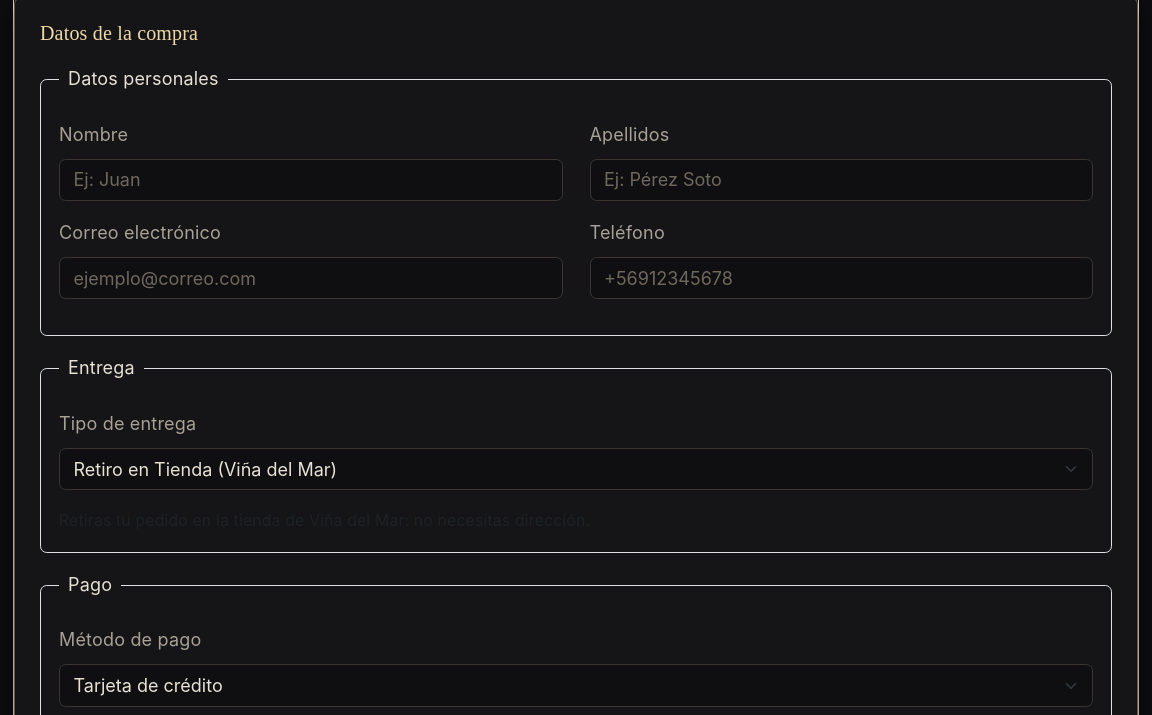
FormularioCheckout › muestra errores y no confirma si faltan datos del despacho
Select "Despacho Starken" in the dropdown labelled "Tipo de entrega" at (576, 469), box left=59, top=448, right=1093, bottom=490
(page scrolled)
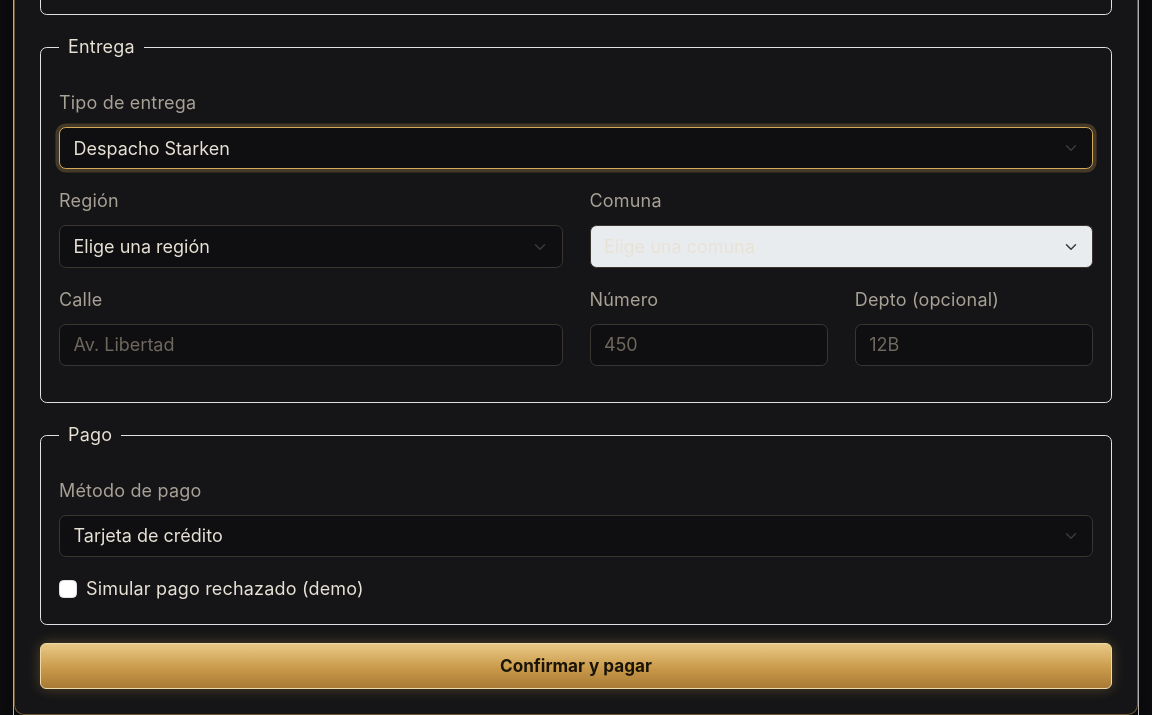
Click the button "Confirmar y pagar" at (576, 666), box left=40, top=643, right=1112, bottom=688
(page scrolled)
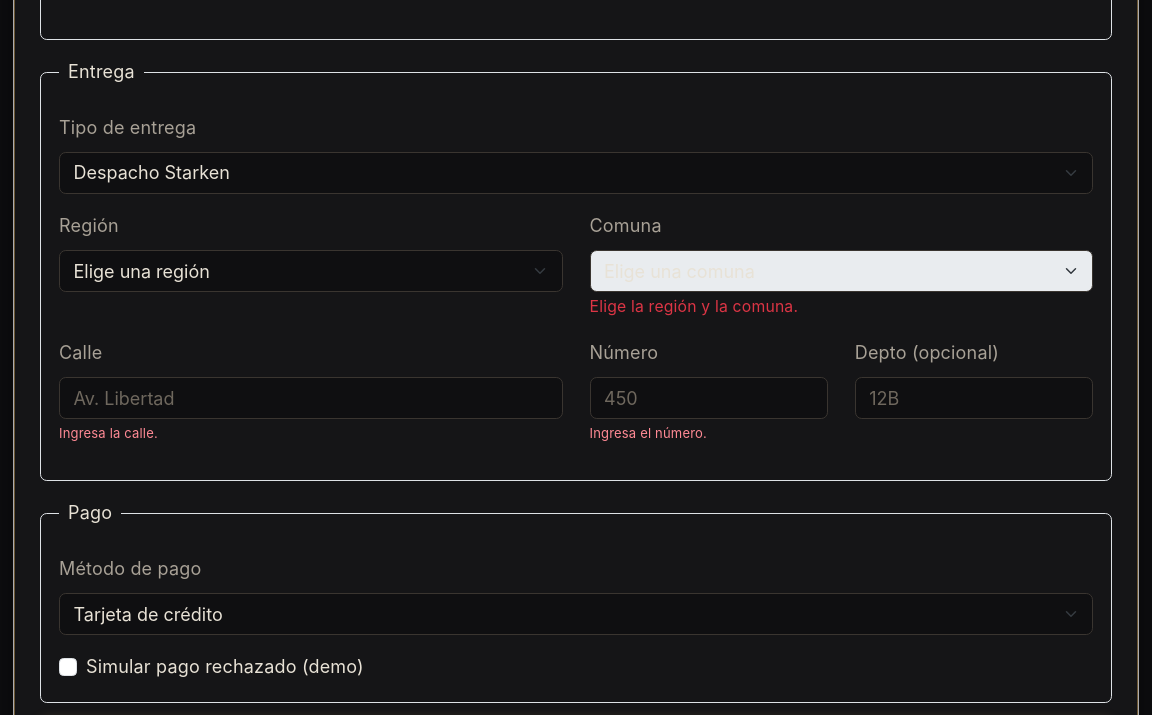
Result: the text "Elige la región y la comuna." is shown at left=590, top=297, right=798, bottom=316
